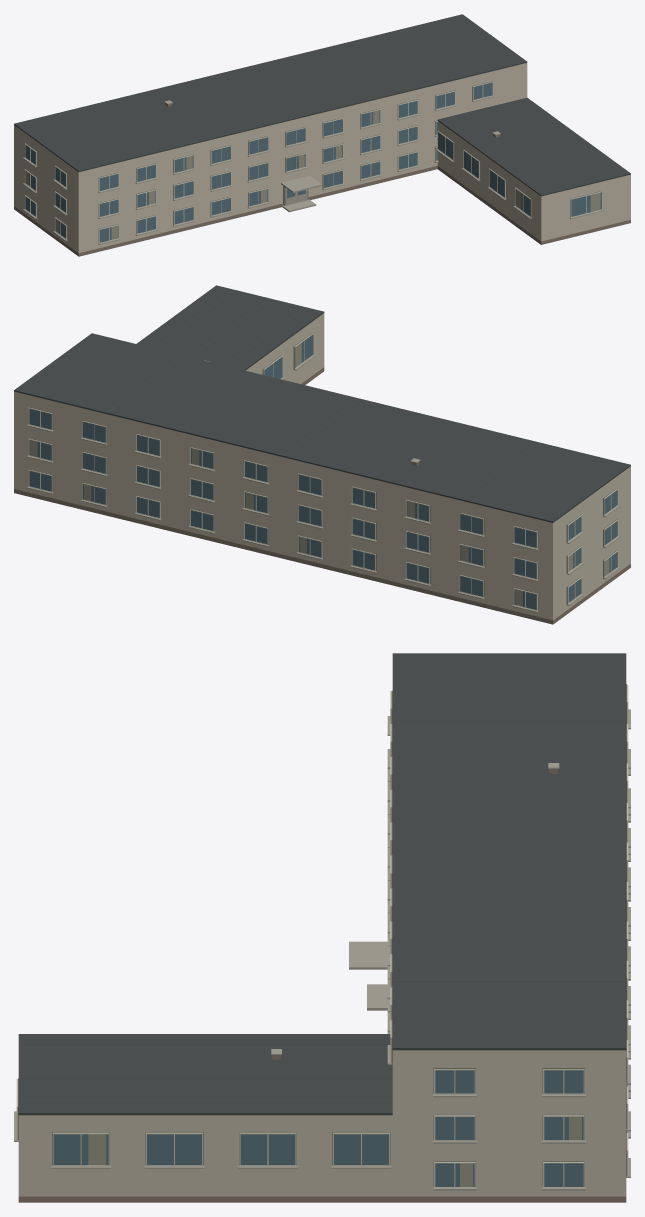
Rendered from school.glb.
3 renders of one model, top to bottom at view 1: azimuth 30°, elevation 25°; view 2: azimuth 150°, elevation 25°; view 3: azimuth 270°, elevation 25°, orthographic. The views are drawn at different scales.
Visible parts, largest first — view 1: school; view 2: school; view 3: school.
Part boxes in pixels (x1,y1,x2,y2): school: (14, 14, 630, 256); school: (14, 285, 630, 624); school: (14, 653, 630, 1202).
Bounding box in the file's own units: 60.62 × 11.49 × 39.62.
